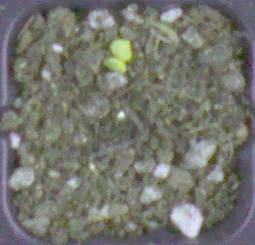chilli seed: (110, 38, 132, 60), (103, 57, 127, 73)
